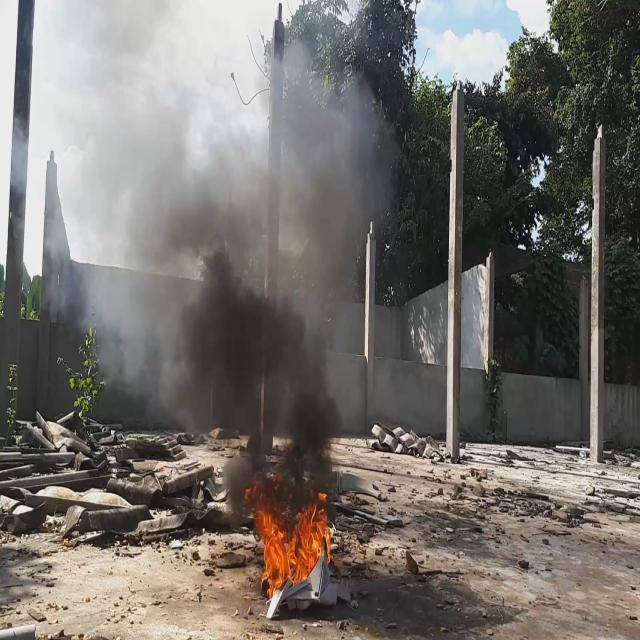Fire: (252, 481, 329, 598)
Smoke: (11, 0, 403, 534)
